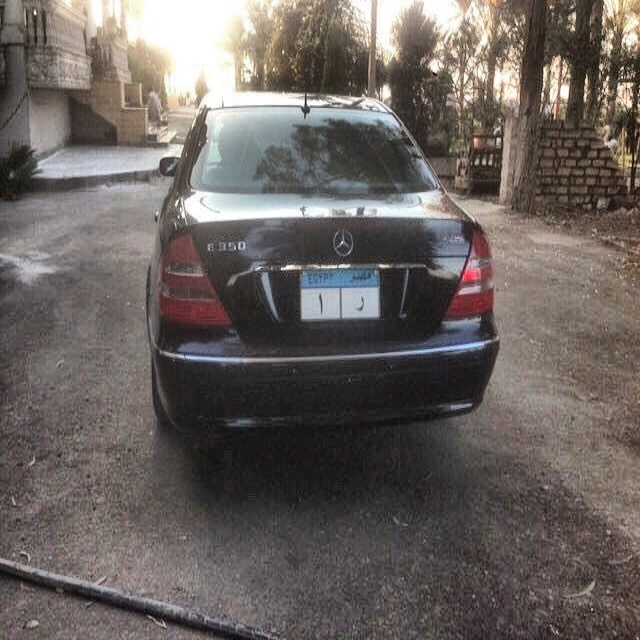License Plate: (297, 267, 382, 323)
